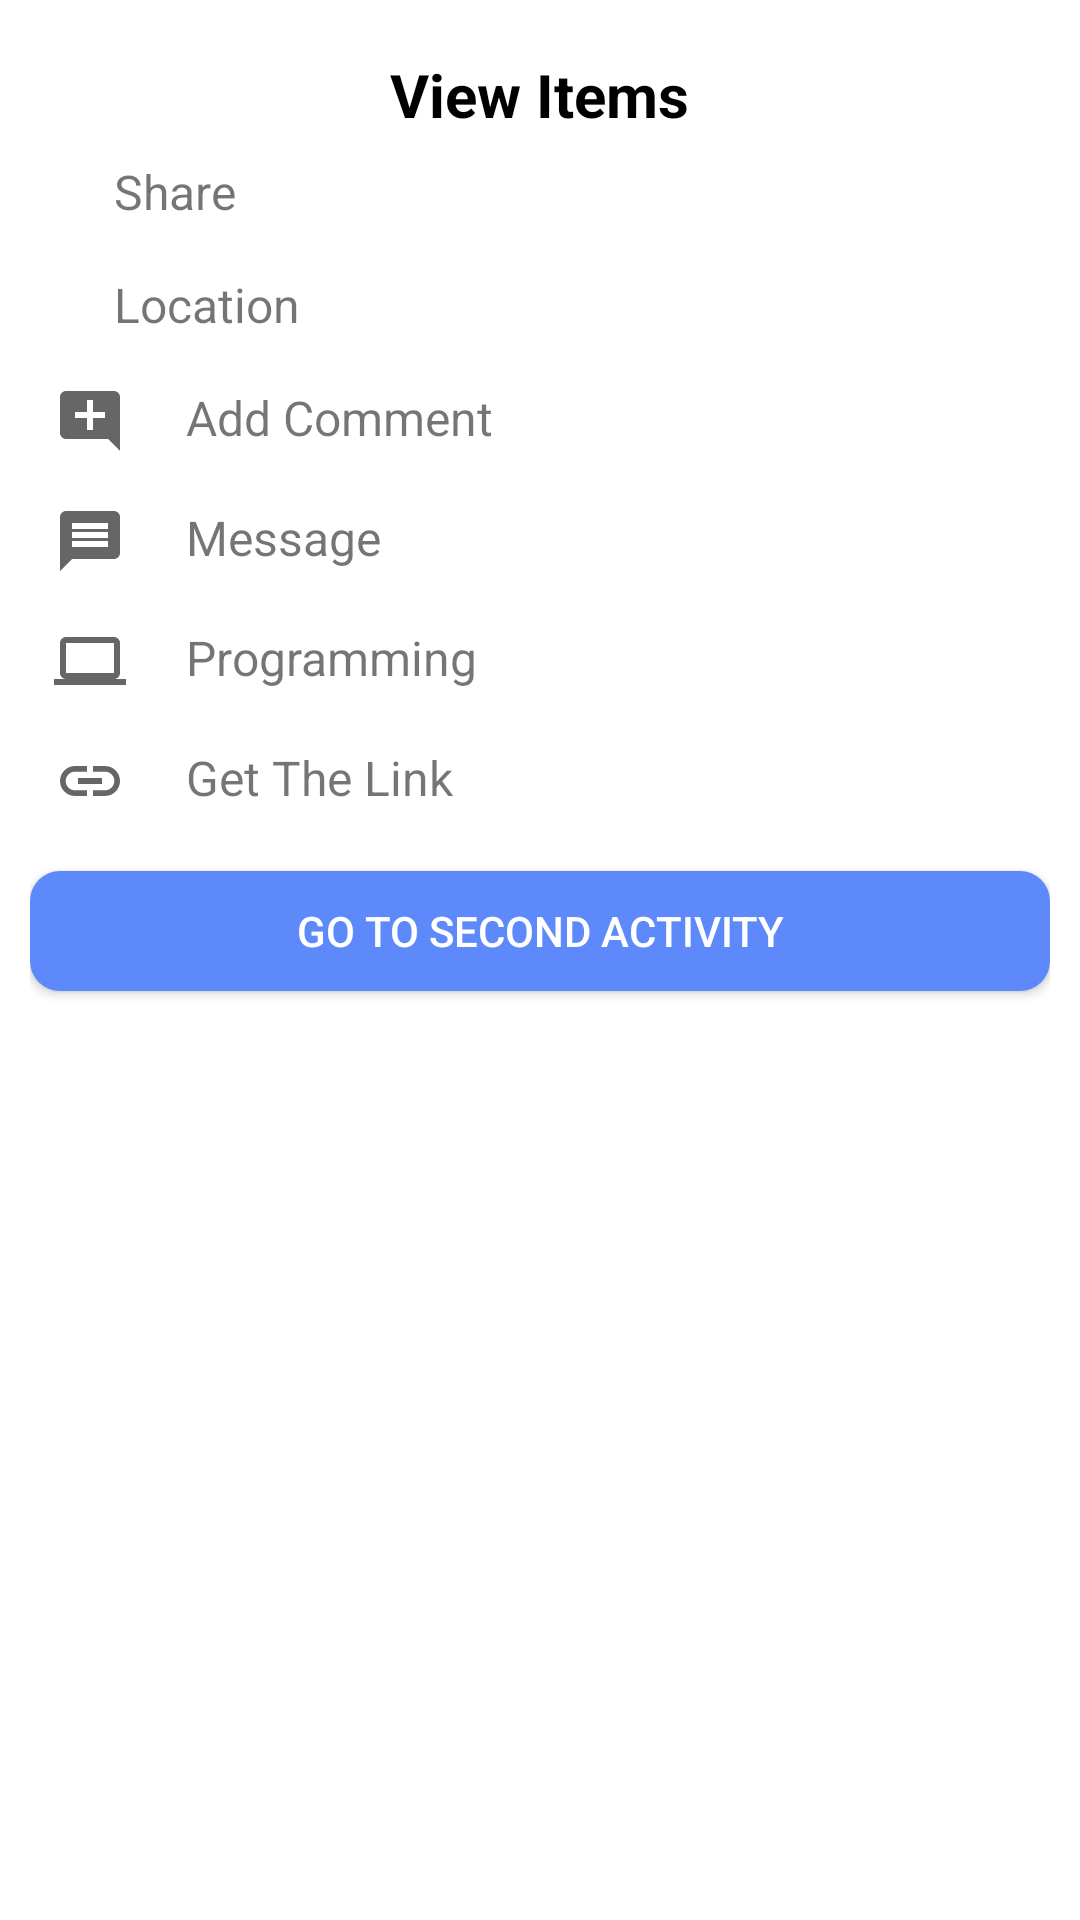

Named icons in this screenshot (1080 x 1920) and their centers, [x,y]:
computer: [90,661]
insert link: [90,781]
